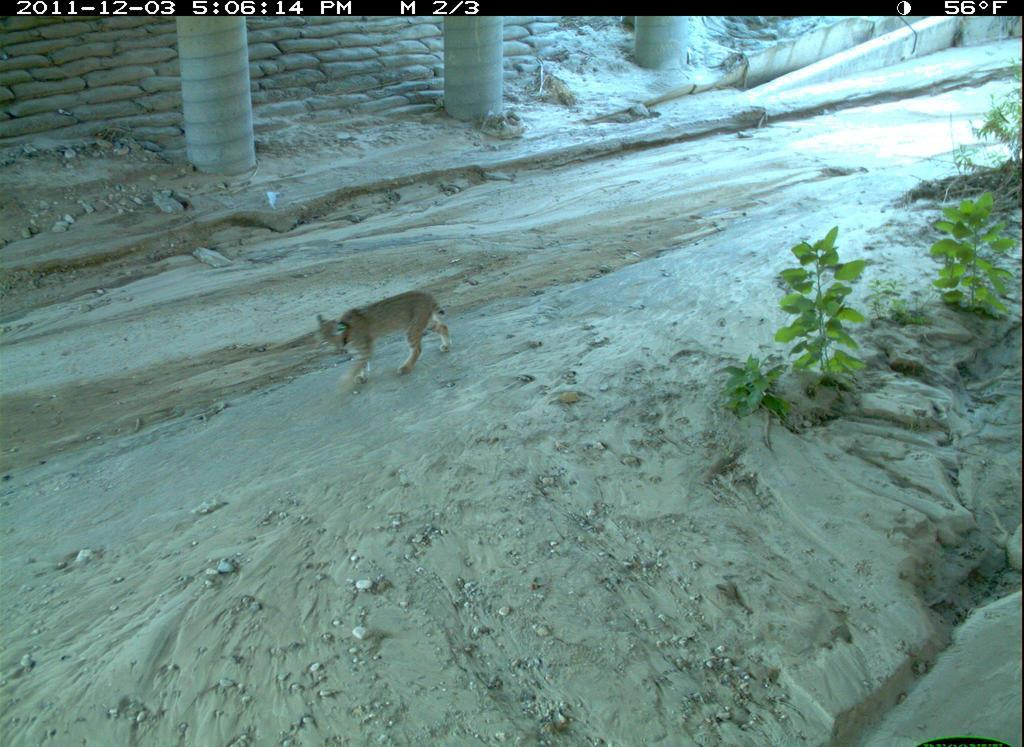bobcat: (299, 286, 483, 400)
